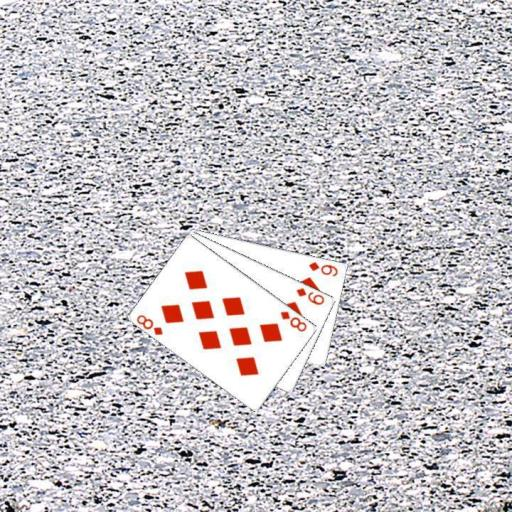card-corner: (277, 308, 309, 333), (134, 312, 165, 336), (293, 284, 326, 306), (306, 258, 340, 278)
